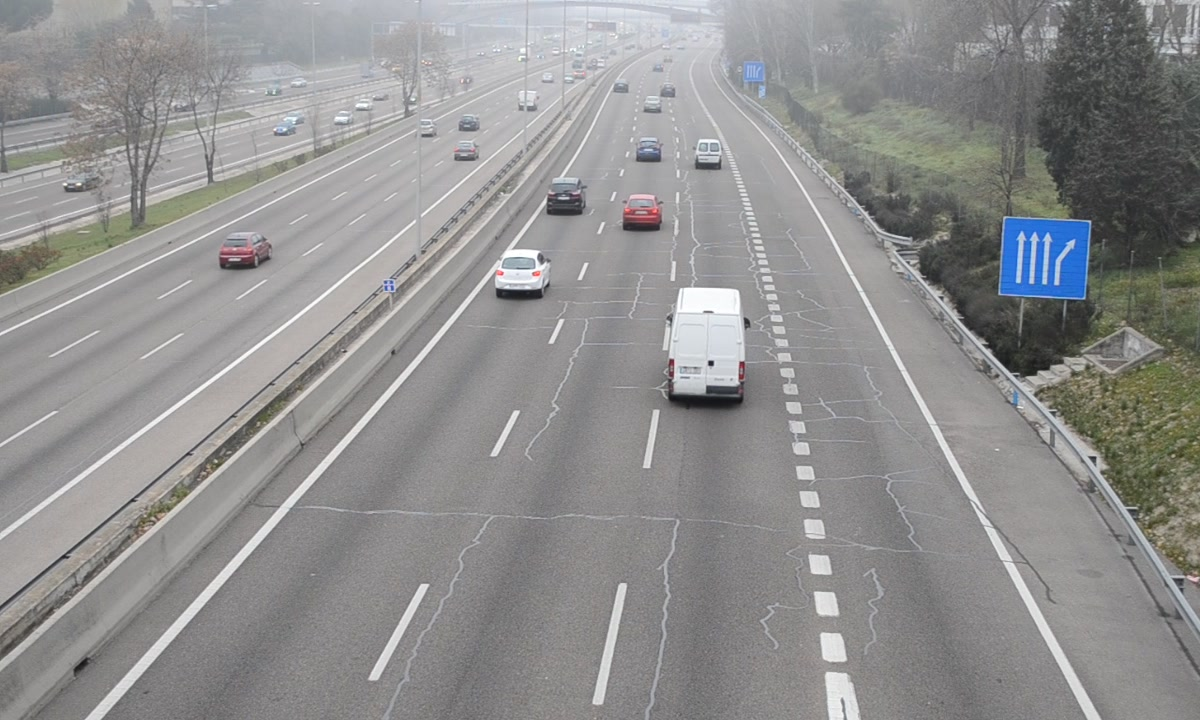car: (493, 250, 550, 292), (546, 176, 587, 217), (623, 194, 663, 232), (635, 137, 663, 164)
van: (669, 290, 747, 404), (694, 138, 724, 172)
